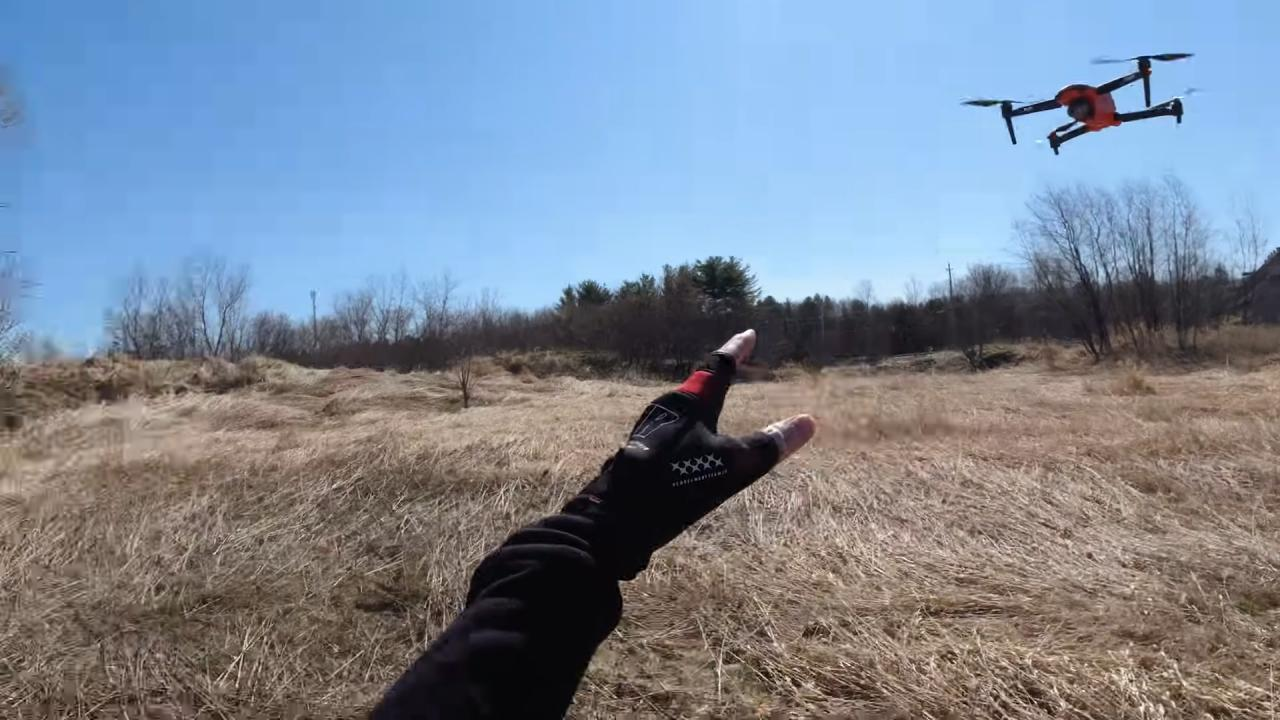Drone: (946, 38, 1227, 170)
